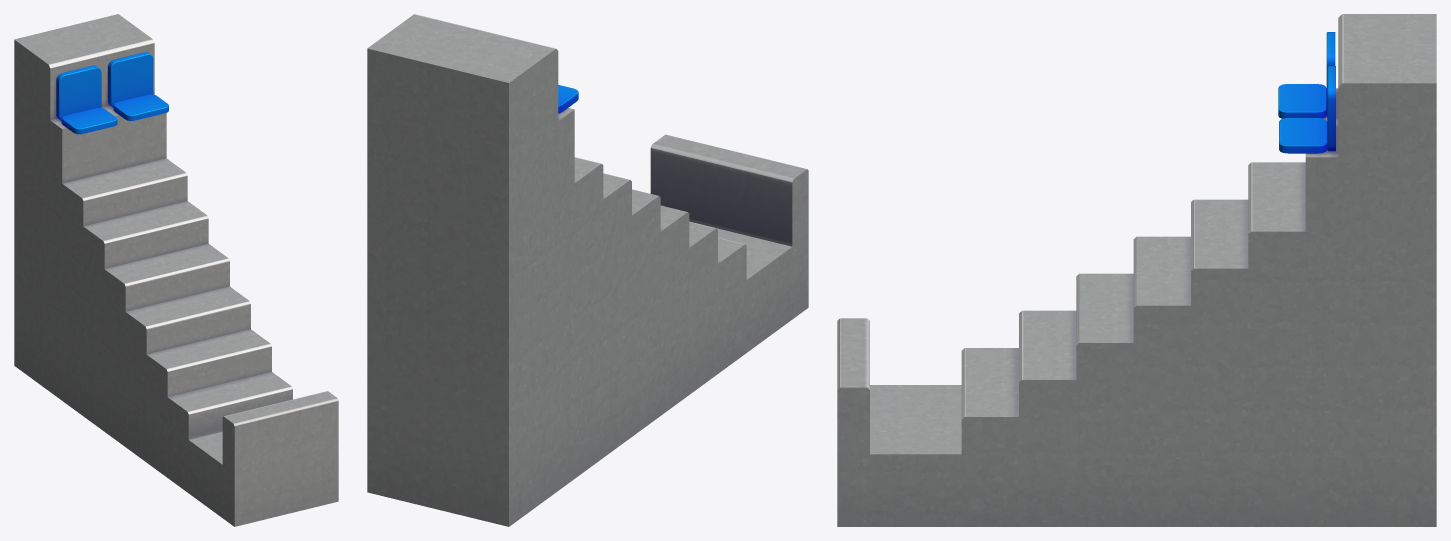
File: tribune_stairs.fbx
The picture shows the model from 3 angles, left to right: view 1: azimuth 30°, elevation 25°; view 2: azimuth 150°, elevation 25°; view 3: azimuth 270°, elevation 25°; orthographic projection. The views are drawn at different scales.
Visible parts, largest first — view 1: tribune_stairs, tribune_stairs_chair; view 2: tribune_stairs; view 3: tribune_stairs, tribune_stairs_chair.
Part boxes in pixels (x1=…): tribune_stairs: x1=14, y1=14, x2=338, y2=526; tribune_stairs_chair: x1=56, y1=52, x2=168, y2=134; tribune_stairs: x1=367, y1=14, x2=808, y2=526; tribune_stairs: x1=837, y1=14, x2=1436, y2=526; tribune_stairs_chair: x1=1278, y1=32, x2=1335, y2=153.
Bounding box in the file's own units: 100 × 299 × 366.
